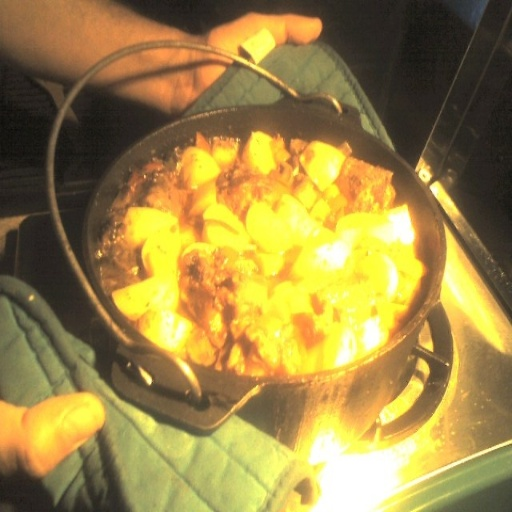hand: (182, 11, 317, 107), (0, 387, 107, 486)
